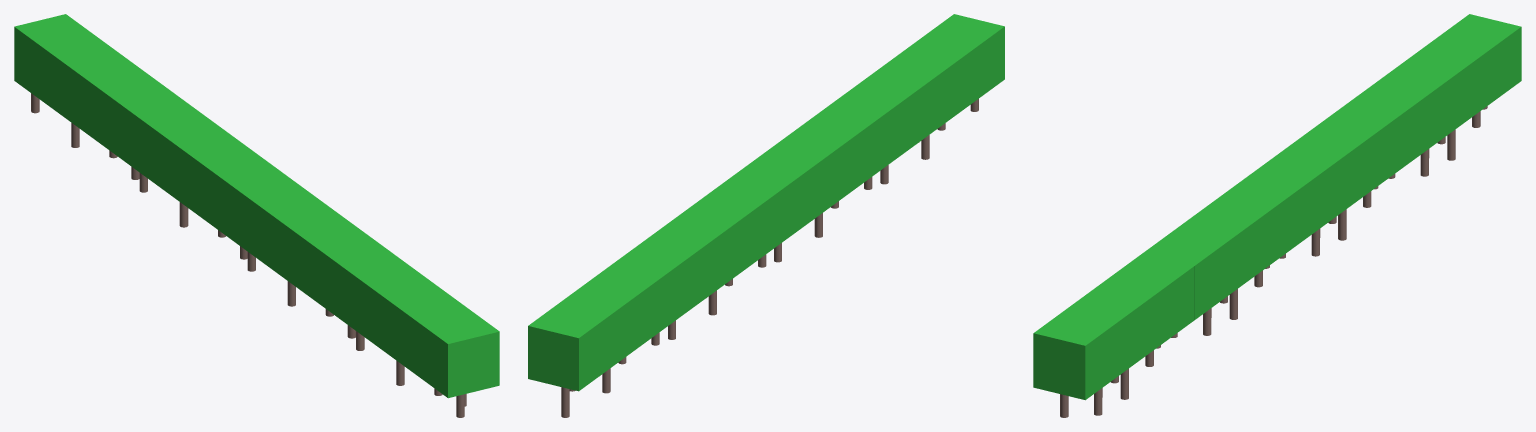
Rendered from arbustoD1.glb.
The picture shows the model from 3 angles, left to right: view 1: azimuth 30°, elevation 25°; view 2: azimuth 150°, elevation 25°; view 3: azimuth 330°, elevation 25°; orthographic projection. The views are drawn at different scales.
Visible parts, largest first — view 1: Cube.041, Cube.001, Cube.003, Cube.039; view 2: Cube.003, Cube.041, Cube.001, Cube.039; view 3: Cube.041, Cube.003, Cube.001, Cube.039.
Boxes of the visible parts, box(x1,y1,x2,y2) form: Cube.041: box(339, 252, 499, 398); Cube.001: box(122, 93, 282, 238); Cube.003: box(14, 14, 173, 159); Cube.039: box(230, 173, 390, 317); Cube.003: box(528, 248, 685, 391); Cube.041: box(848, 14, 1004, 157); Cube.001: box(635, 170, 791, 312); Cube.039: box(741, 92, 897, 235); Cube.041: box(1033, 253, 1194, 400); Cube.003: box(1360, 14, 1521, 160); Cube.001: box(1251, 94, 1411, 240); Cube.039: box(1143, 174, 1302, 320).
Size of the model in its own units: 3.43 by 5.77 by 49.83.
